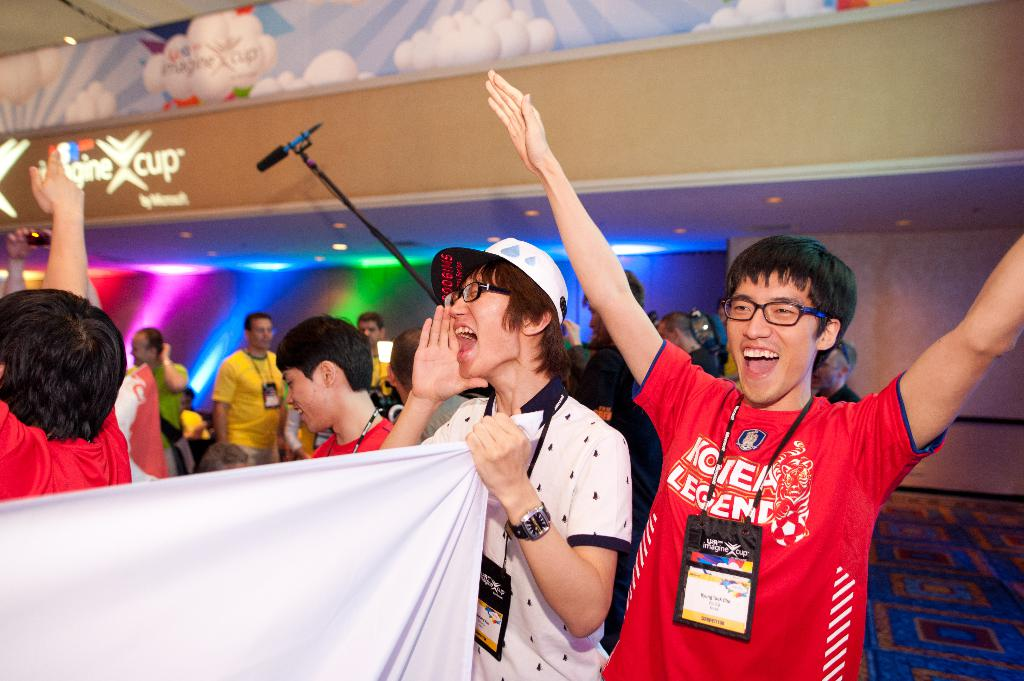Human-face: (726, 266, 815, 405), (447, 280, 535, 377), (287, 372, 339, 439), (813, 351, 840, 393), (245, 314, 275, 344), (126, 332, 154, 364), (252, 322, 271, 359), (359, 321, 378, 340)
